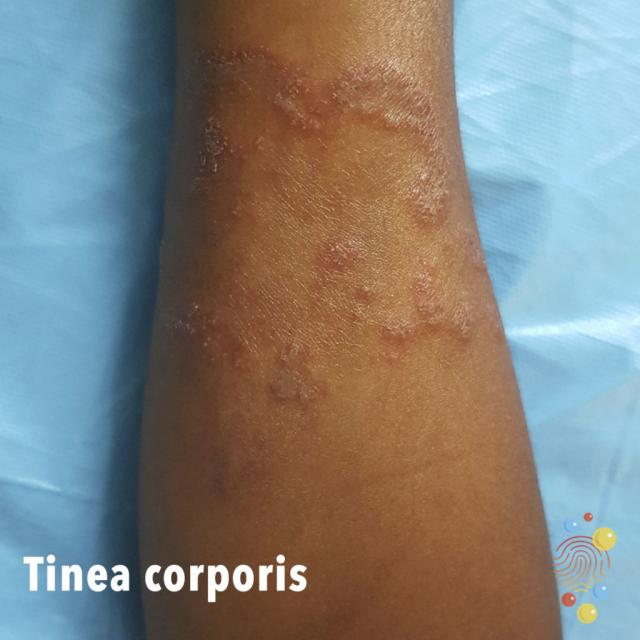tinea: (188, 19, 518, 450)
